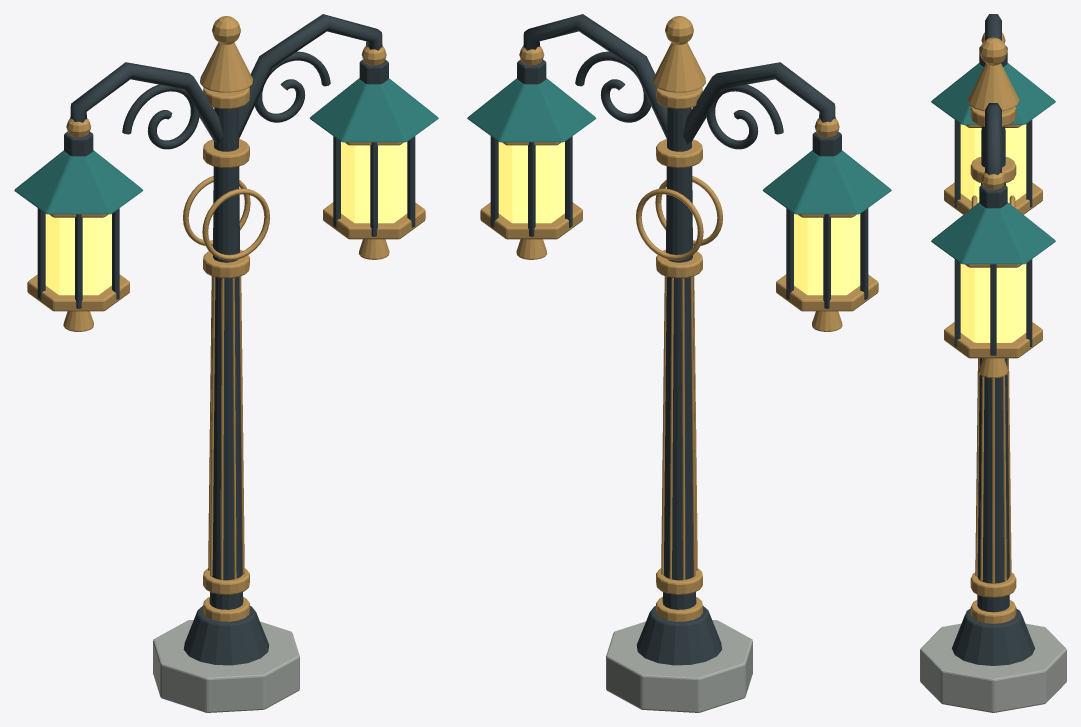
Rendered from prop_aegis_civic_streetlight.glb.
The picture shows the model from 3 angles, left to right: view 1: azimuth 30°, elevation 25°; view 2: azimuth 150°, elevation 25°; view 3: azimuth 270°, elevation 25°; orthographic projection. The views are drawn at different scales.
Parts seen in each view (by area): view 1: aegis_civic_streetlight.001; view 2: aegis_civic_streetlight.001; view 3: aegis_civic_streetlight.001.
Boxes of the visible parts, left/top/right/bottom form: aegis_civic_streetlight.001: left=14, top=14, right=438, bottom=712; aegis_civic_streetlight.001: left=467, top=14, right=891, bottom=712; aegis_civic_streetlight.001: left=920, top=14, right=1066, bottom=712.
Size of the model in its own units: 2.79 by 4.52 by 0.9346.
